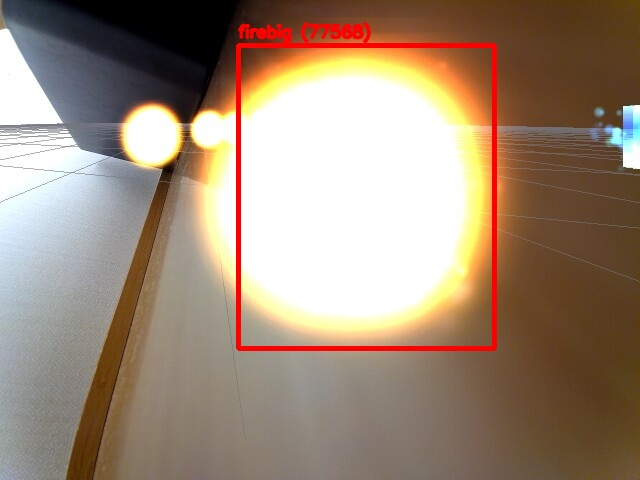firebig: (238, 45, 494, 348)
